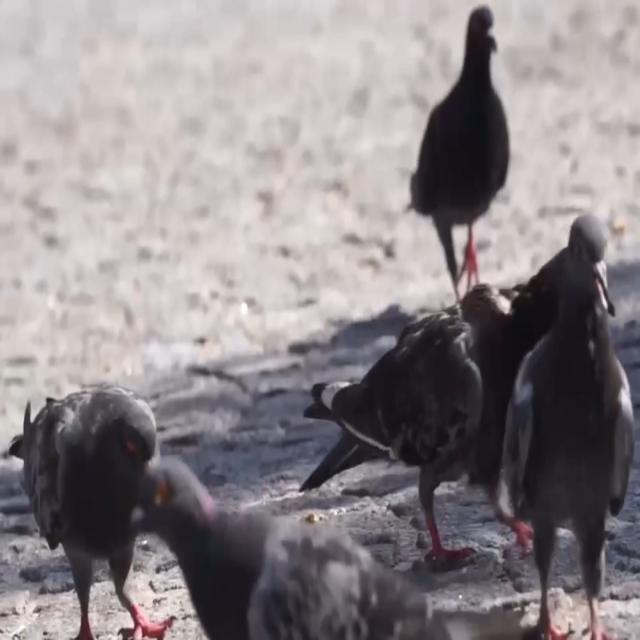bird: (298, 234, 589, 582), (124, 441, 473, 640), (491, 206, 640, 640), (305, 310, 495, 568), (3, 376, 179, 640), (392, 0, 517, 327)
